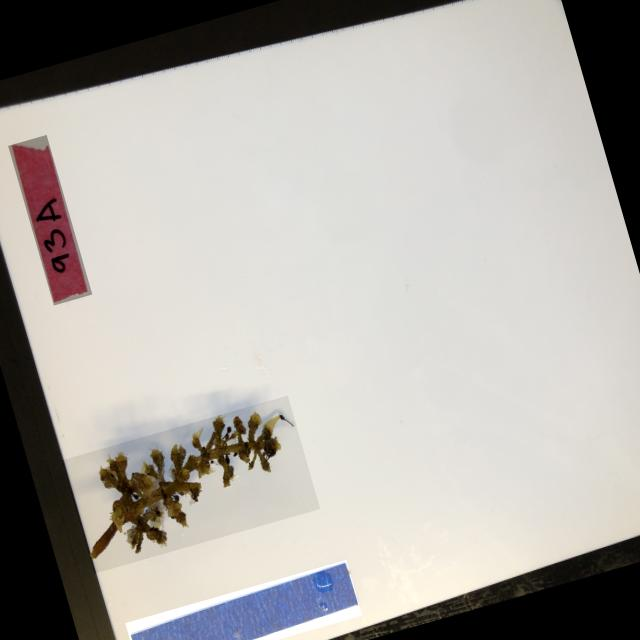index: (8, 133, 92, 304)
measure_label: (124, 557, 361, 640)
rachis_cluster: (62, 394, 320, 572)
